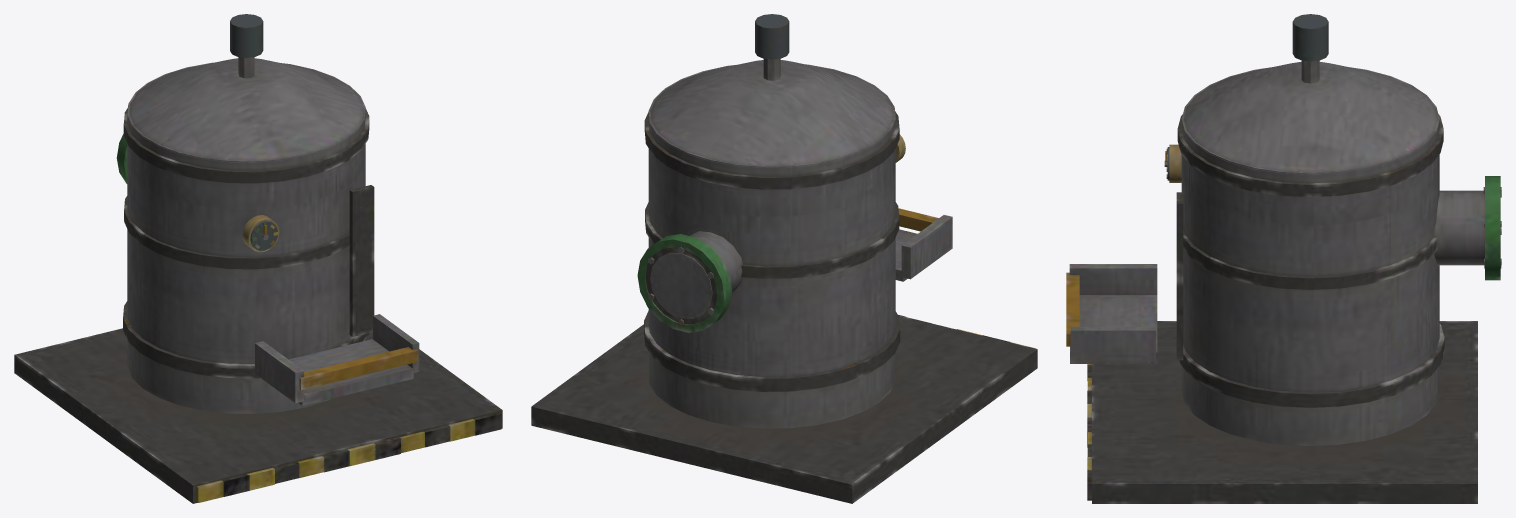
Rendered from feFermenter.glb.
3 views of the same model, side by side, from view 1: azimuth 30°, elevation 25°; view 2: azimuth 150°, elevation 25°; view 3: azimuth 270°, elevation 25° (orthographic). The views are drawn at different scales.
Visible parts, largest first — view 1: feFermenter_Base; view 2: feFermenter_Base; view 3: feFermenter_Base.
Part boxes in pixels (<box>): feFermenter_Base: <box>14,14,502,503</box>; feFermenter_Base: <box>531,14,1037,503</box>; feFermenter_Base: <box>1066,14,1501,503</box>.
Bounding box in the file's own units: 0.9012 × 1.03 × 1.02.
Materials: 1 (1 with a texture image).
